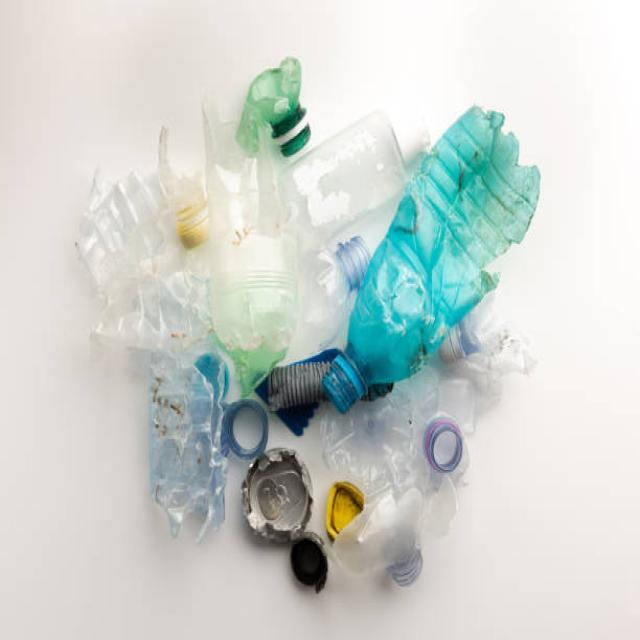plastic: (102, 73, 472, 529)
